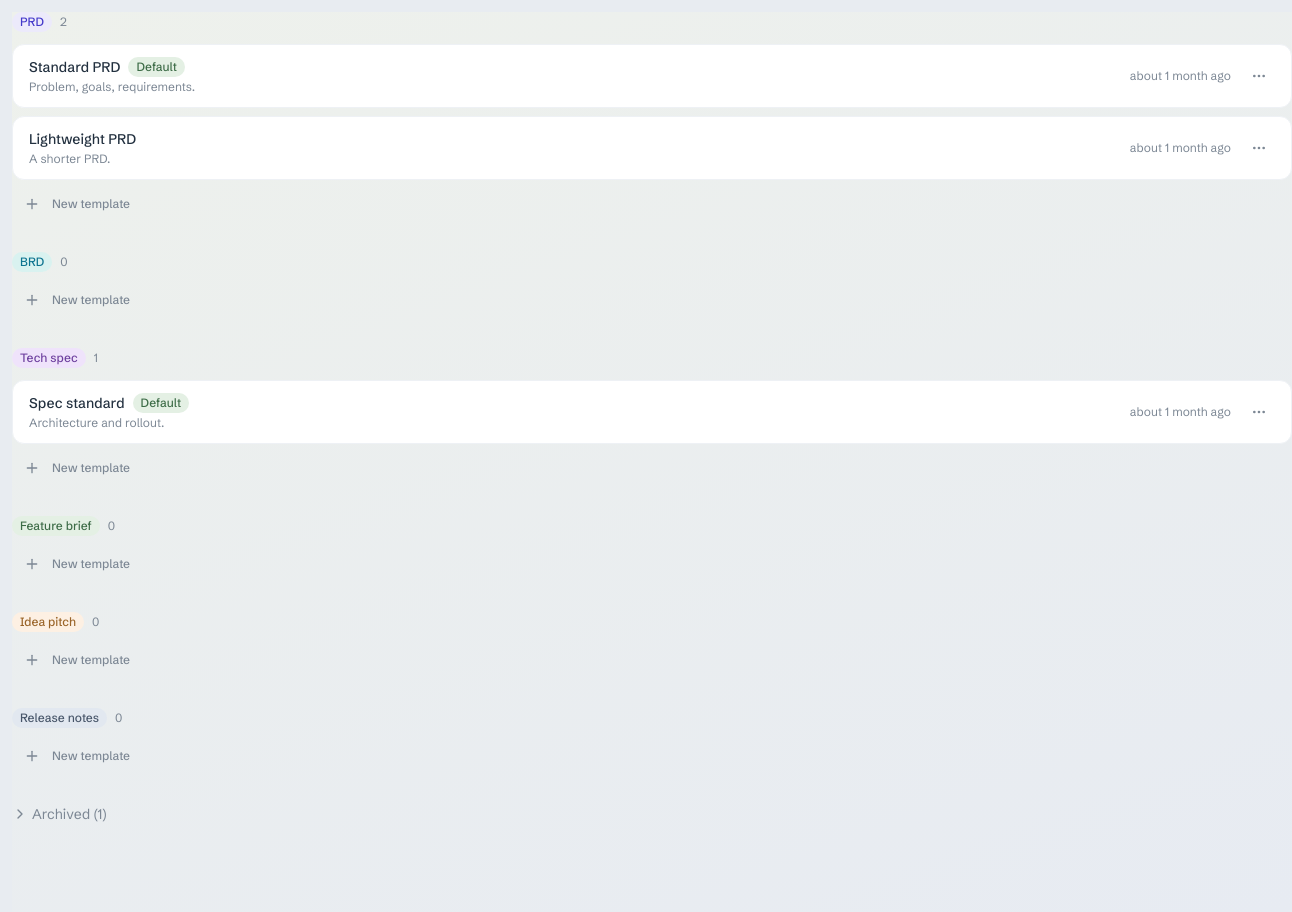
Test: TemplatesTab › hides archived templates behind the toggle
Expected: the element named "prd templates" is shown, [12,12,1291,220]
Expected: the text "Old BRD" is not shown
What coordinates should you click on to do the following:
click the button "Archived (1)"
I would click on:
 (59, 814)
Its box is [12,804,106,824].
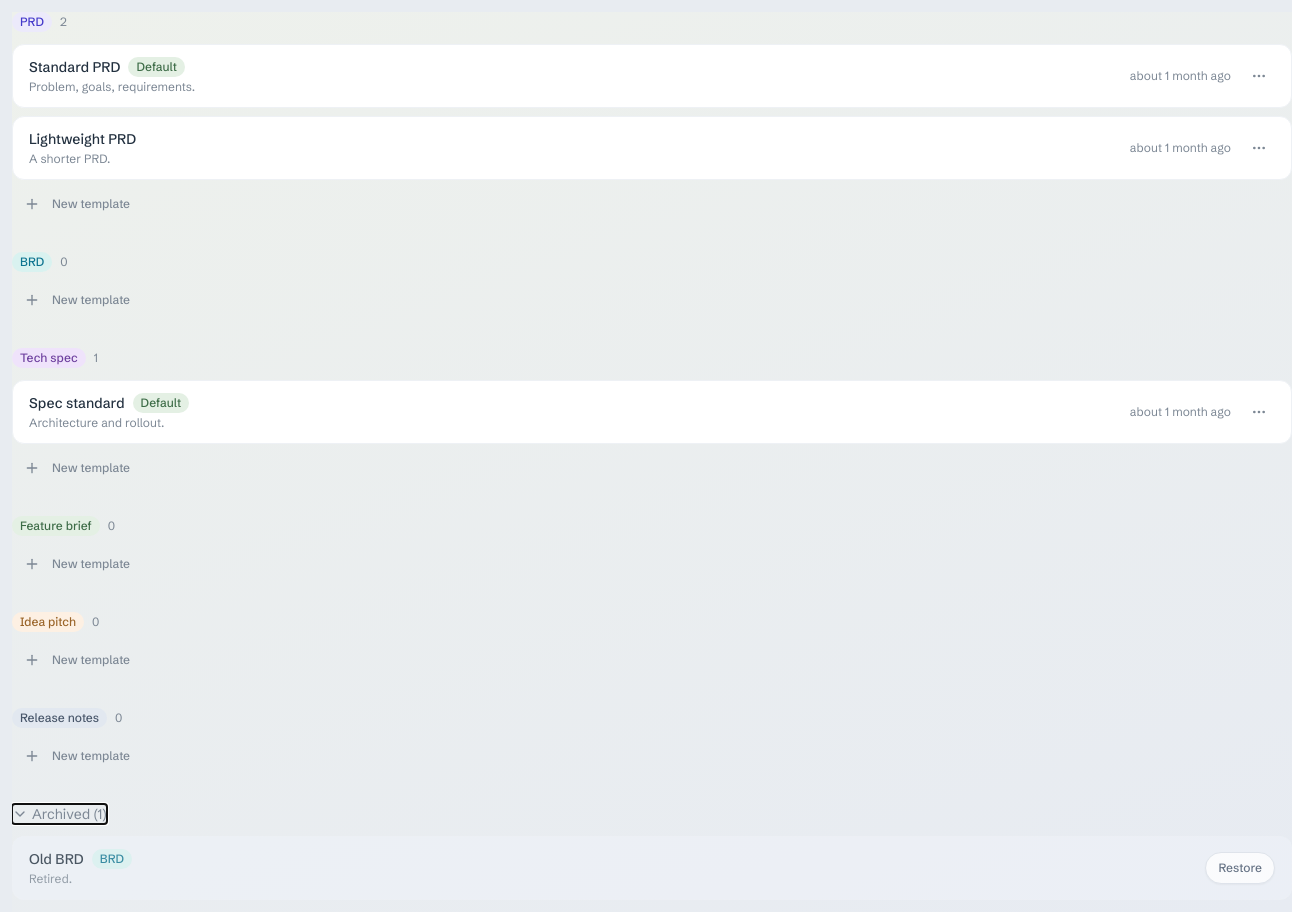
Now the text "Old BRD" is shown, box [29,849,84,869]
Now the button "Restore" is shown, box [1206,852,1275,884]
